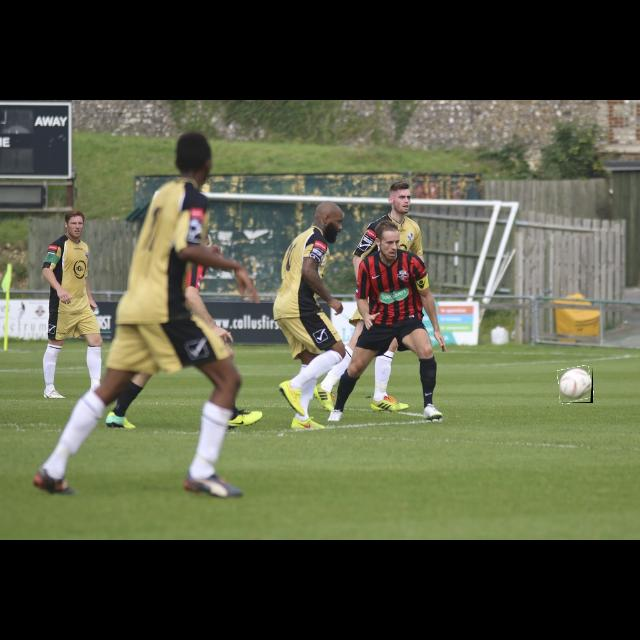Football: (559, 367, 593, 403)
